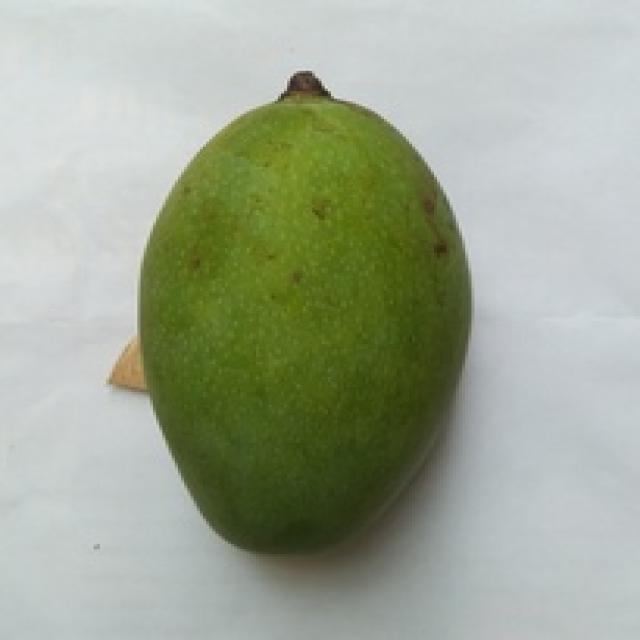Mango: (137, 94, 468, 549)
